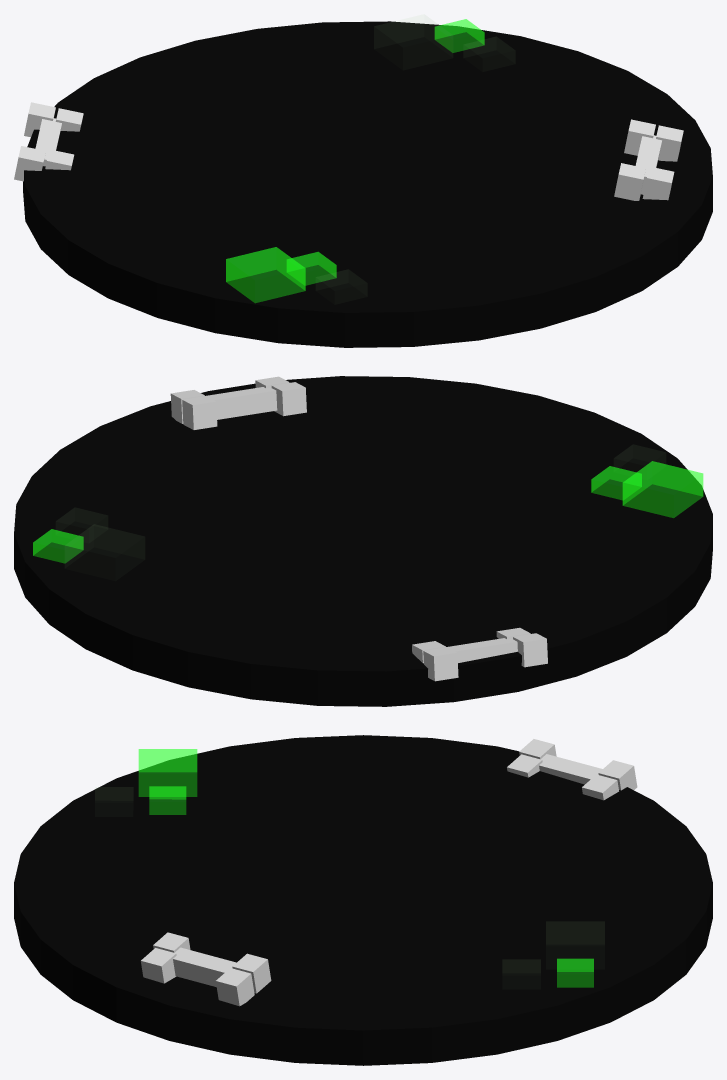
The model's file is Plane_Melee.fbx.
3 renders of one model, top to bottom at view 1: azimuth 30°, elevation 25°; view 2: azimuth 150°, elevation 25°; view 3: azimuth 270°, elevation 25°, orthographic.
Visible parts, largest first — view 1: Cylinder.010; view 2: Cylinder.010; view 3: Cylinder.010.
Boxes of the visible parts, x1,y1,x2,y2 form: Cylinder.010: [14, 19, 712, 347]; Cylinder.010: [14, 376, 712, 706]; Cylinder.010: [14, 735, 712, 1065].
Size of the model in its own units: 405 by 41.77 by 405.
